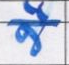ai_matra: (24, 0, 52, 21)
